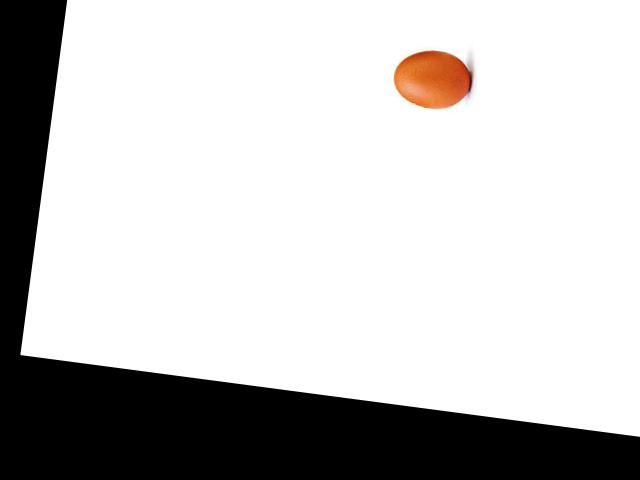egg: (391, 45, 473, 112)
